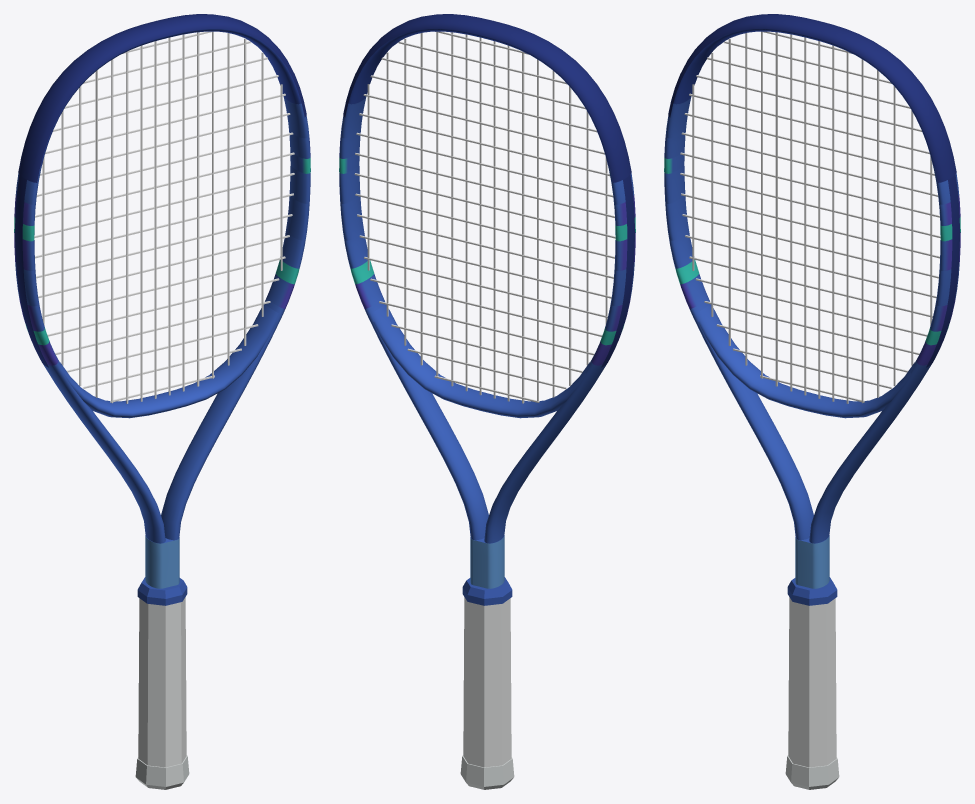
Rendered from yonex-ezone-junior-26.glb.
3 views of the same model, side by side, from view 1: azimuth 30°, elevation 25°; view 2: azimuth 150°, elevation 25°; view 3: azimuth 330°, elevation 25° (orthographic).
Visible parts, largest first — view 1: frame, strings_mains, strings_crosses, grip, bumper, grommets, butt_cap, collar; view 2: frame, strings_mains, strings_crosses, grip, bumper, grommets, butt_cap, collar; view 3: frame, strings_mains, strings_crosses, grip, bumper, grommets, butt_cap, collar.
Part boxes in pixels (box(x1,y1,x2,y2)): frame: box(14, 28, 310, 588); strings_mains: box(42, 31, 282, 403); strings_crosses: box(34, 31, 294, 402); grip: box(138, 597, 186, 767); bumper: box(18, 14, 306, 182); grommets: box(15, 174, 48, 367); butt_cap: box(135, 755, 189, 789); collar: box(137, 577, 187, 605); frame: box(339, 28, 635, 588); strings_mains: box(367, 32, 607, 403); strings_crosses: box(354, 31, 615, 402); grip: box(463, 597, 511, 767); bumper: box(343, 14, 631, 182); grommets: box(601, 174, 634, 367); butt_cap: box(460, 755, 514, 789); collar: box(462, 577, 512, 605); frame: box(664, 28, 960, 588); strings_mains: box(692, 31, 932, 403); strings_crosses: box(680, 31, 940, 402); grip: box(788, 597, 836, 767); bumper: box(668, 14, 956, 182); grommets: box(926, 174, 959, 367); butt_cap: box(785, 755, 839, 789); collar: box(787, 577, 837, 605).
Bounding box in the file's own units: 0.2636 × 0.6607 × 0.0396.
